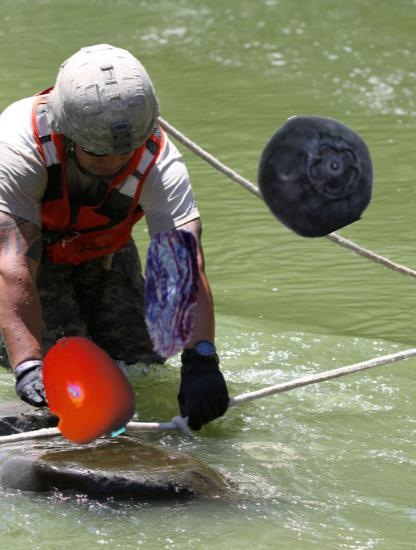Blueberry: (254, 112, 377, 235)
Dates: (105, 228, 237, 360)
Kaki: (29, 333, 142, 446)
